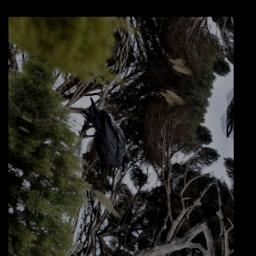Crow: (69, 93, 140, 176)
